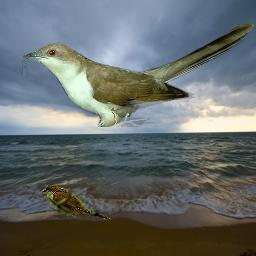Cuckoo: (22, 21, 254, 127), (41, 184, 111, 220)
